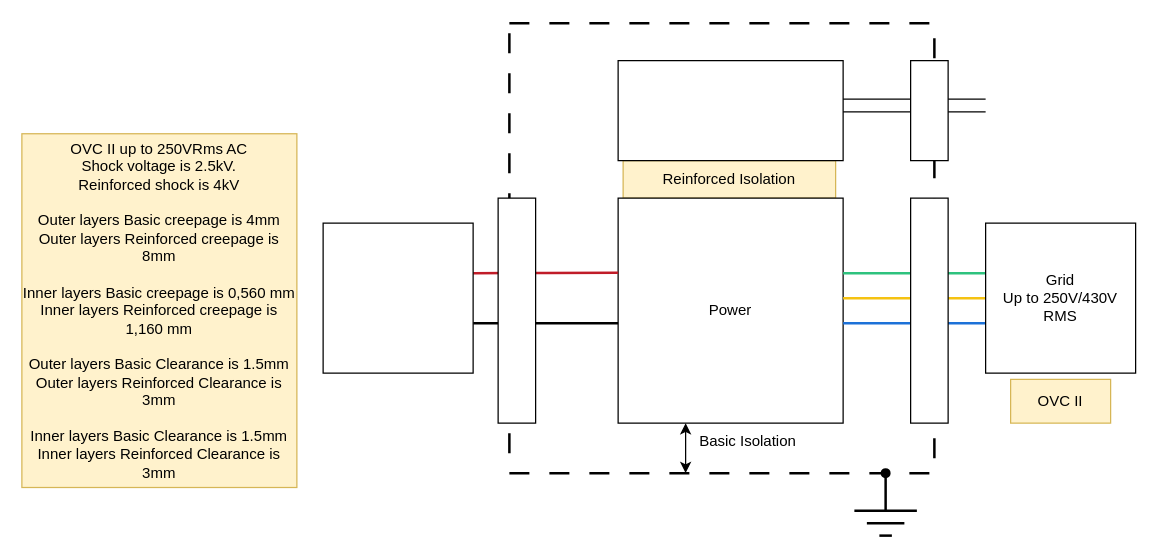
Image size: 1158x559. Some labels were removed from this diagram. The shapes that lost their labels are listed below. From the top down, each one's box as (x1, y1, x2, y2) in pixels, then its label:
(617, 59, 843, 161): MCU low voltage only
(322, 222, 473, 373): PSU up to 800VDC
